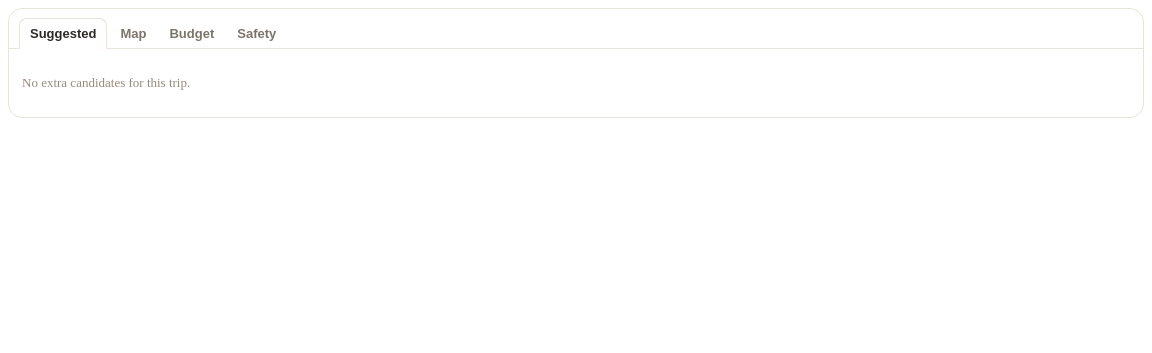
Scenario: #211: Safety tab renders trip/leg-level booking_links › safeHref() is genuinely used — an unsafe booking_url (javascript:) never becomes a clickable anchor
Click the button "Safety": point(257, 33) [227, 18, 286, 48]
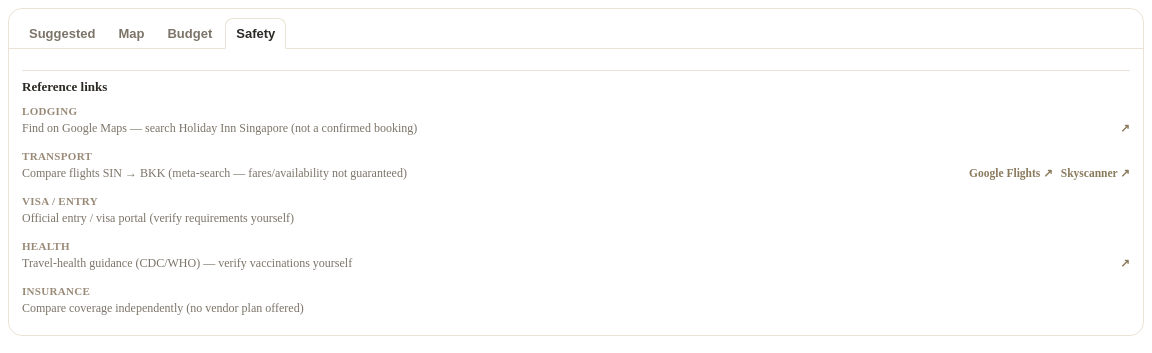
Now the element with test id "booking-link-group-visa" shows "Official entry / visa portal (verify requirements yourself)", box [22, 211, 294, 225]
